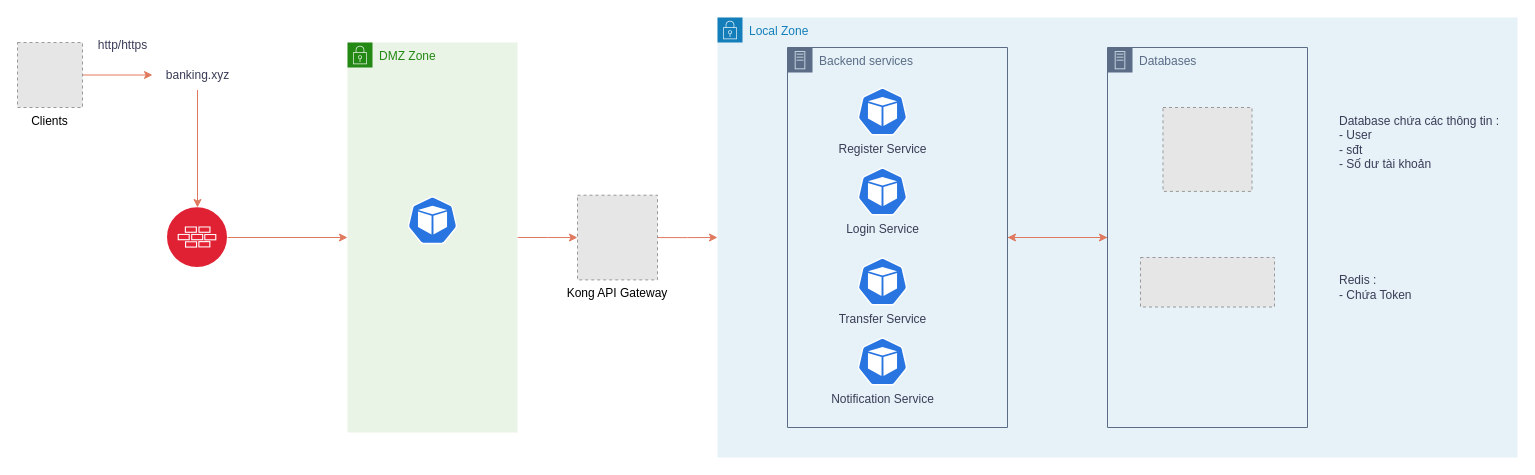
Some shapes in this 1535 by 475 pixel diagram are drawn without their labels. Grey dashed boxes stand in for pictures. The centre of each missing label's shape, as x and y in pixels:
"Firewall" goes at [197,237].
"Frontend Service" goes at [432,219].
